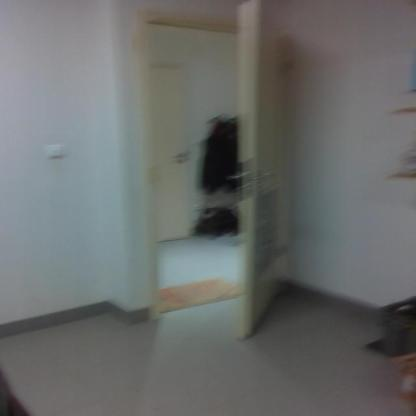door: (123, 1, 303, 344)
